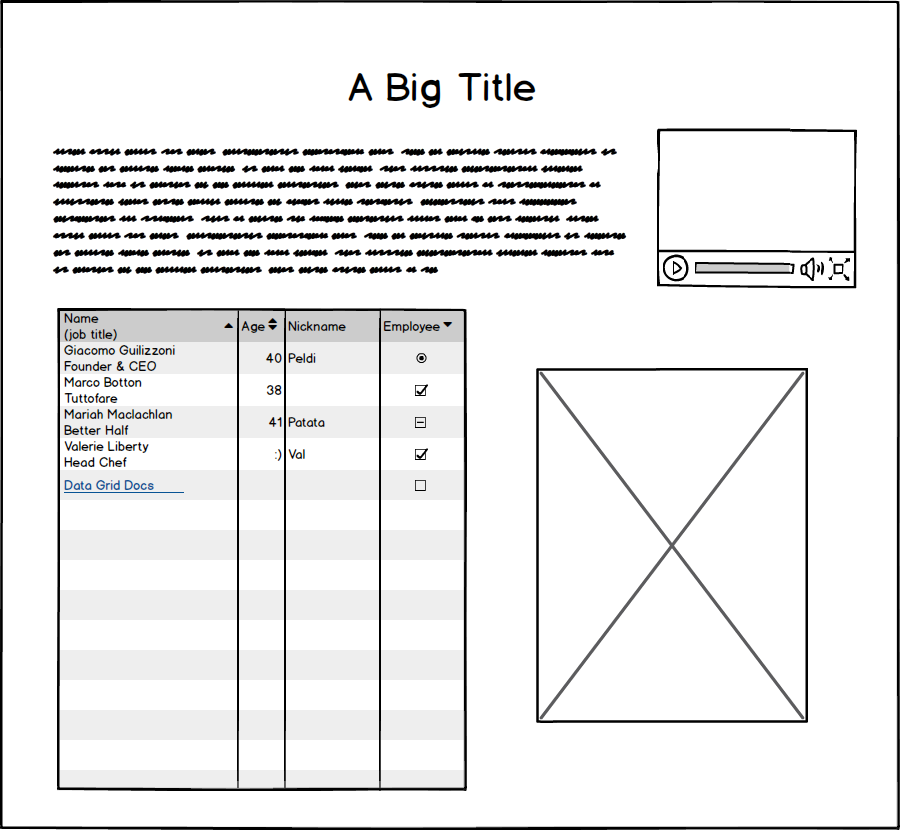h1: (335, 58, 545, 115)
image: (534, 359, 815, 731)
p: (46, 138, 634, 283)
table: (51, 302, 473, 797)
video: (650, 124, 860, 293)
